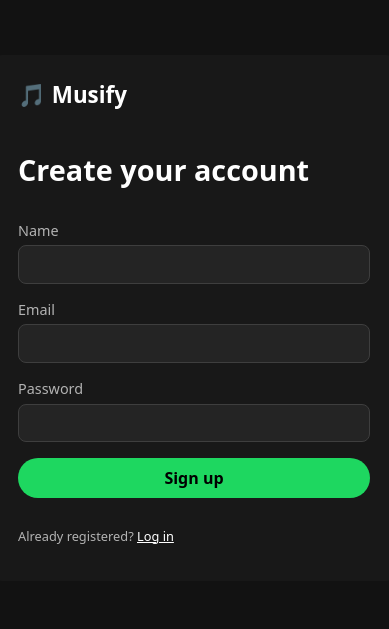
it: AuthPage › lists every field error of a rejected registration
In the field labelled "Name": (194, 264) x1=18 y1=245 x2=370 y2=284, type "Anna"
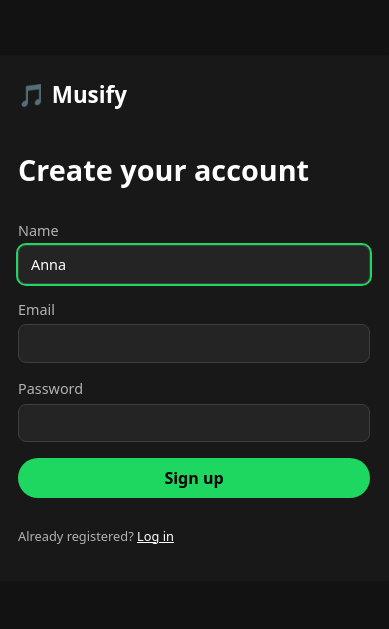
In the field labelled "Email": (194, 344) x1=18 y1=324 x2=370 y2=363, type "anna@example.com"
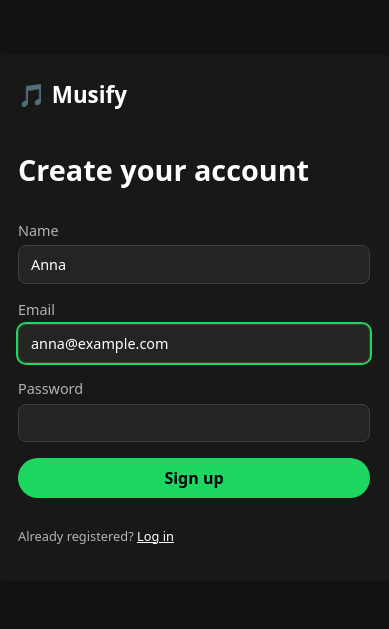
In the password field labelled "Password": (194, 423) x1=18 y1=404 x2=370 y2=442, type "Secret123!"
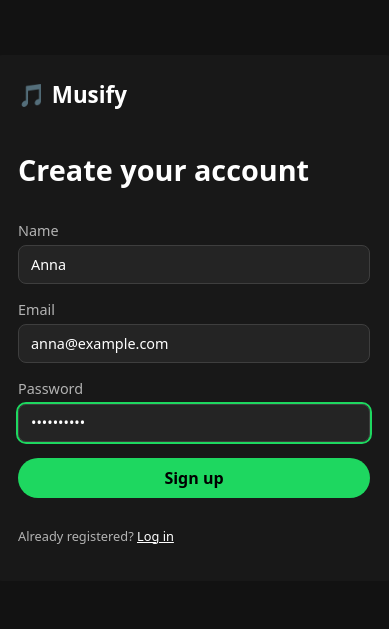
Click the button "Sign up": click(194, 478) x1=18 y1=458 x2=370 y2=498
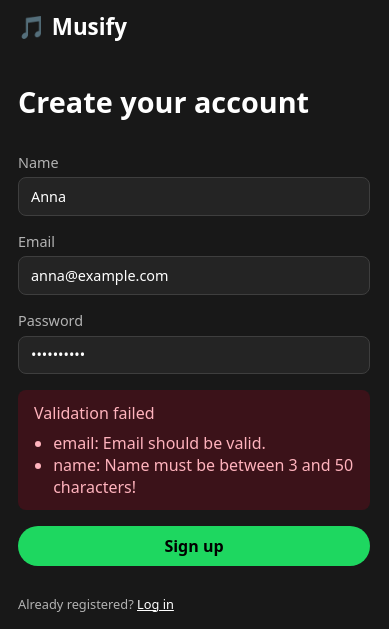
Check: the message shows "Validation failed", box x1=34 y1=402 x2=155 y2=424
Check: the message shows "email: Email should be valid.", box x1=53 y1=432 x2=266 y2=454
